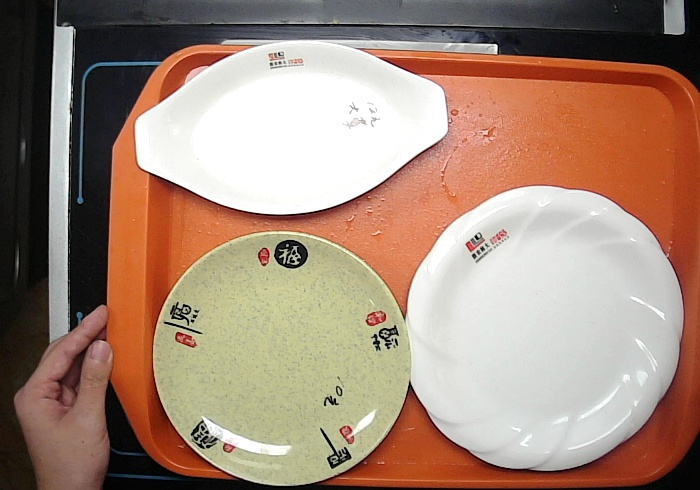NLDX-Bai_Zhe_Yuan_Pan: (405, 186, 687, 473)
NLDX-Fu_Zi_Yuan_Pan: (151, 231, 412, 487)
NLDX-Yu_Pan: (134, 40, 449, 214)
